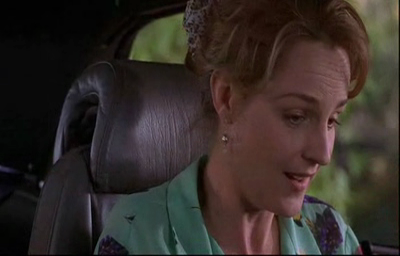cu: (1, 1, 400, 256)
face: (254, 45, 351, 217)
person: (91, 1, 372, 254)
